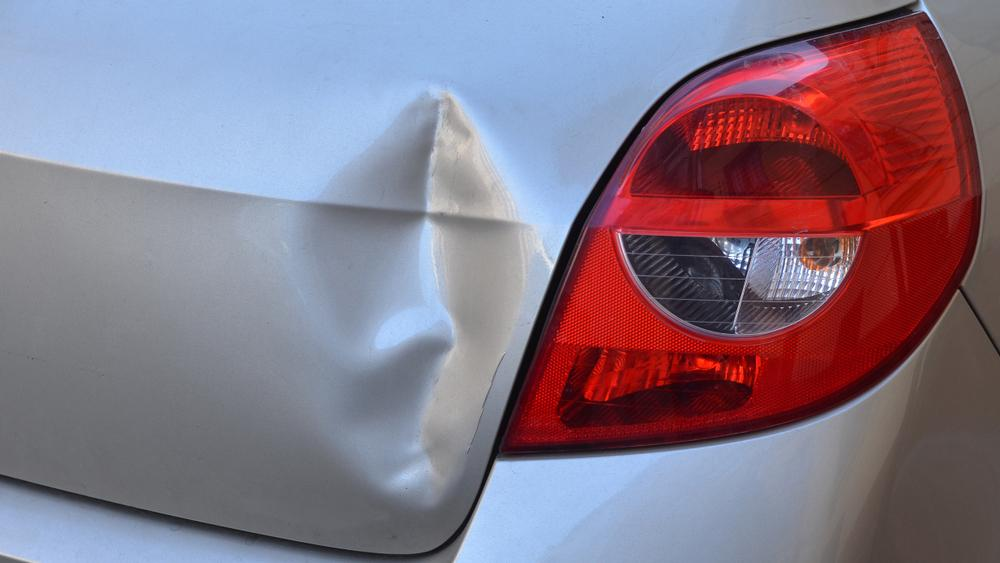dent: (280, 90, 527, 506)
